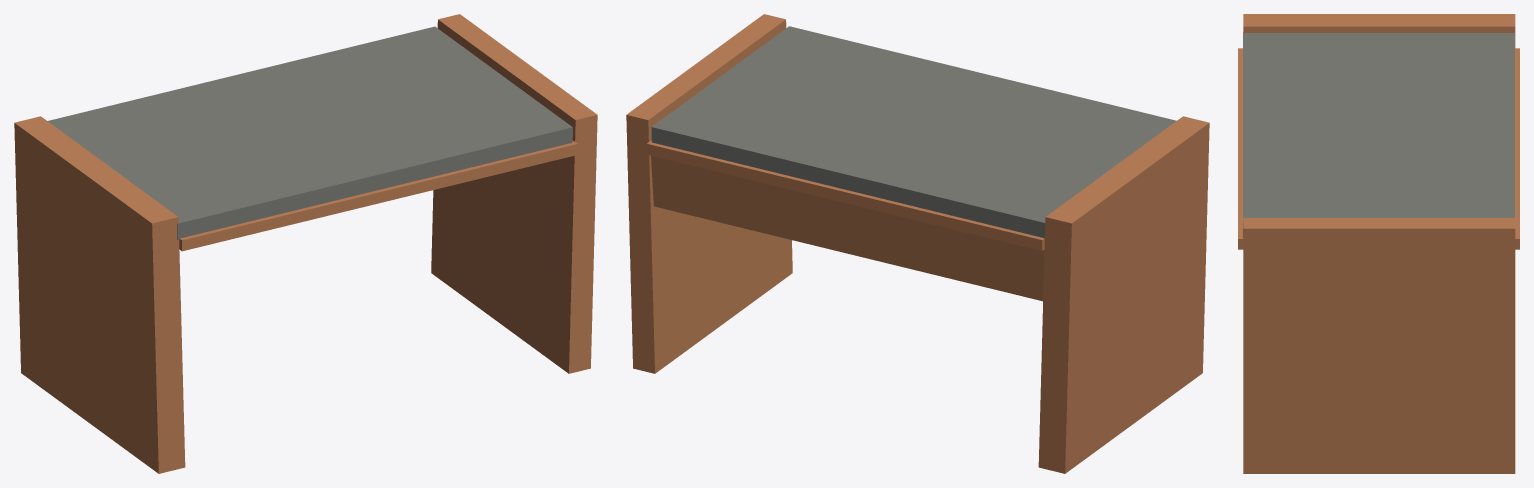
The model's file is Prop_sci_desk1.FBX.
3 views of the same model, side by side, from view 1: azimuth 30°, elevation 25°; view 2: azimuth 150°, elevation 25°; view 3: azimuth 270°, elevation 25° (orthographic).
Parts seen in each view (by area): view 1: Desk_sci_101, Desk_sci_102; view 2: Desk_sci_101, Desk_sci_102; view 3: Desk_sci_101, Desk_sci_102.
Part boxes in pixels (bbox=[...]): Desk_sci_101: bbox=[14, 14, 597, 473]; Desk_sci_102: bbox=[48, 26, 572, 239]; Desk_sci_101: bbox=[626, 14, 1209, 473]; Desk_sci_102: bbox=[651, 26, 1176, 238]; Desk_sci_101: bbox=[1238, 14, 1519, 473]; Desk_sci_102: bbox=[1243, 32, 1514, 237].
Bounding box in the file's own units: 47.51 × 25.69 × 26.38.
